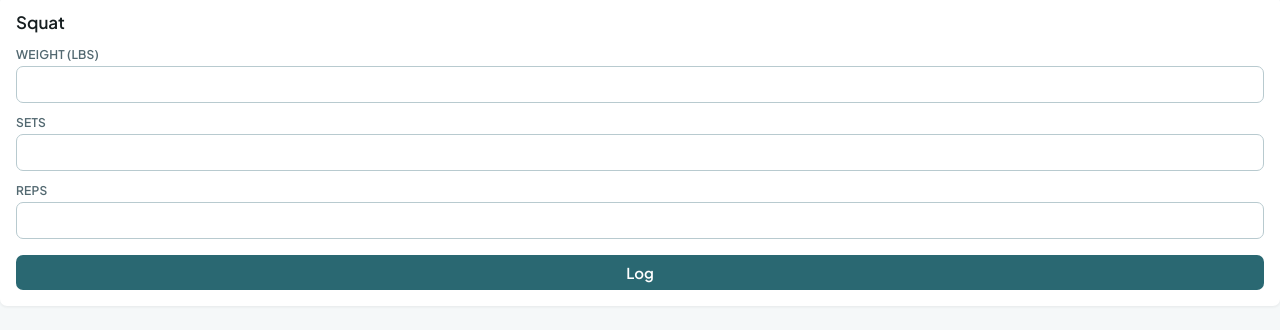
Test: ExerciseCard › shows only sets error when sets < 1
Type "100" into the number field labelled "Weight (lbs)".
click(640, 84); type("100")  # box [16,66,1264,103]
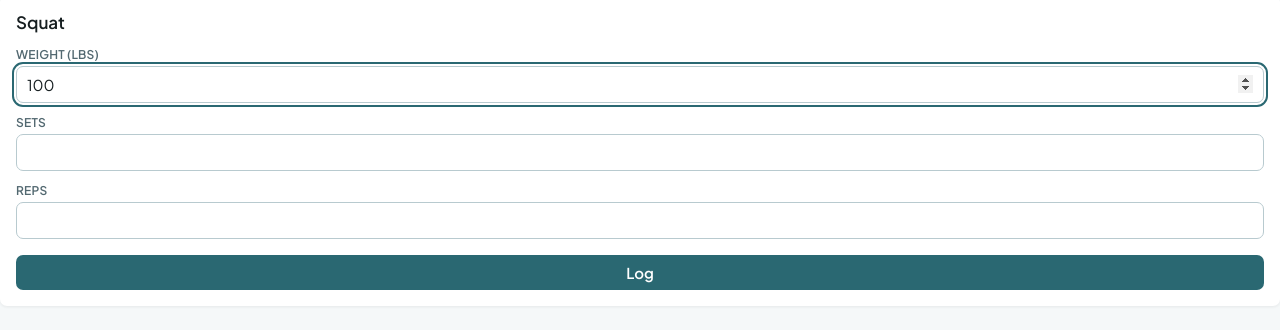
Type "0" into the number field labelled "Sets".
click(640, 152); type("0")  # box [16,134,1264,171]
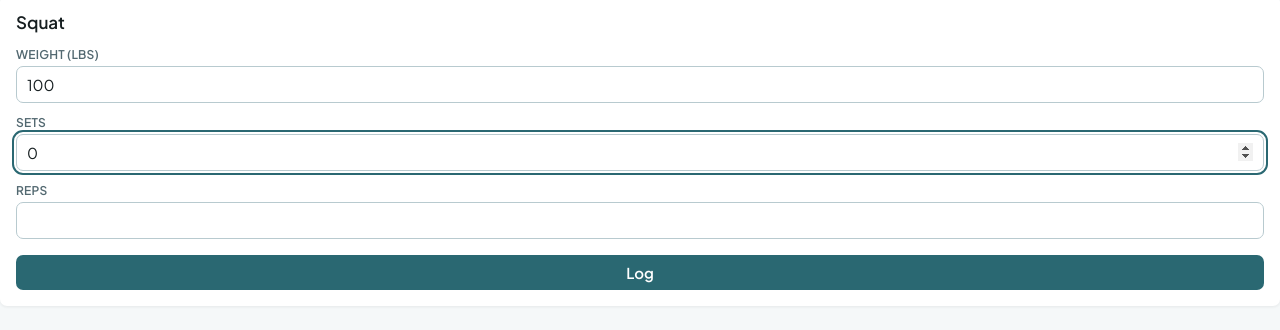
Type "5" into the number field labelled "Reps".
click(640, 220); type("5")  # box [16,202,1264,239]
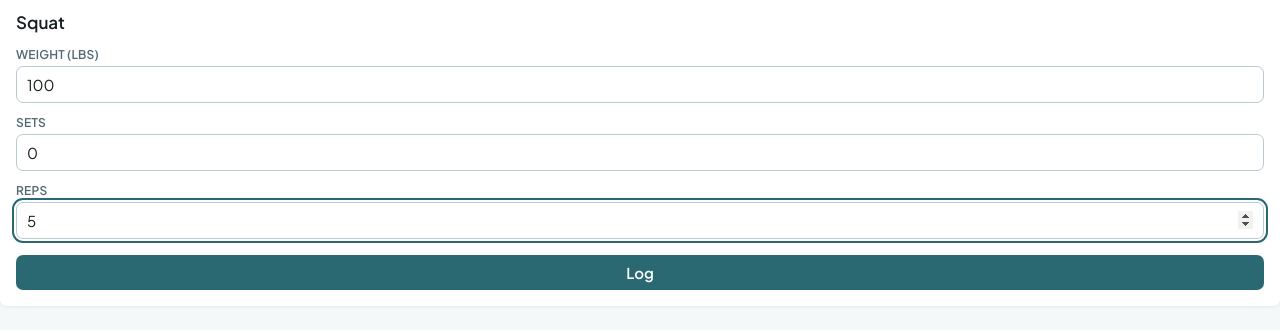
Click the button "Log".
click(640, 272)  # box [16,255,1264,290]
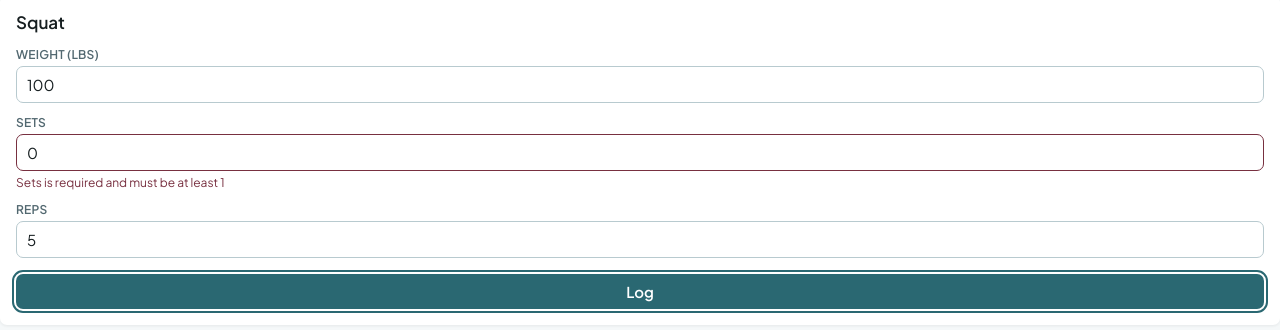
Now the text "Sets is required and must be at least 1" is shown, box [16,175,225,190]
